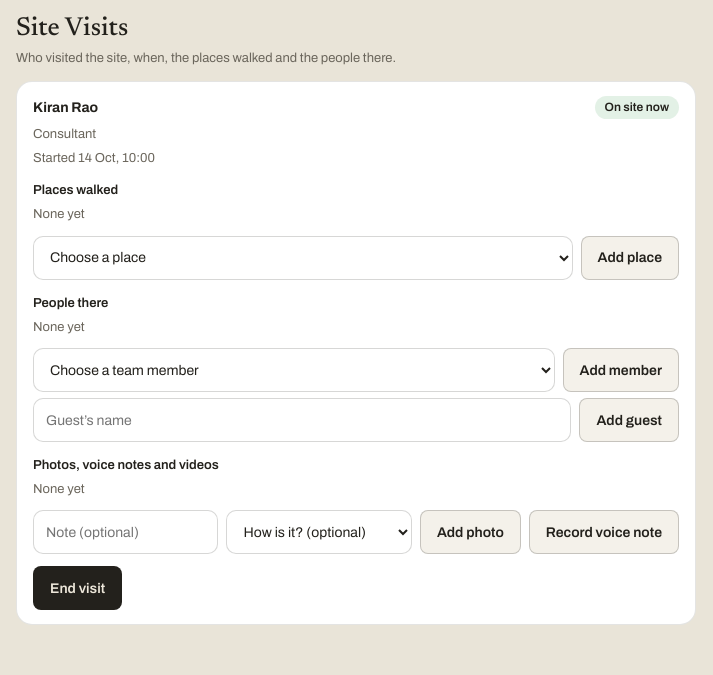
Test: Stage 1 voice notes on a visit › refuses a recording the browser ended past two minutes in a hidden tab, where the cap’s timer had not yet run
Click the button "Record voice note" at (604, 532), box [529, 510, 679, 554]
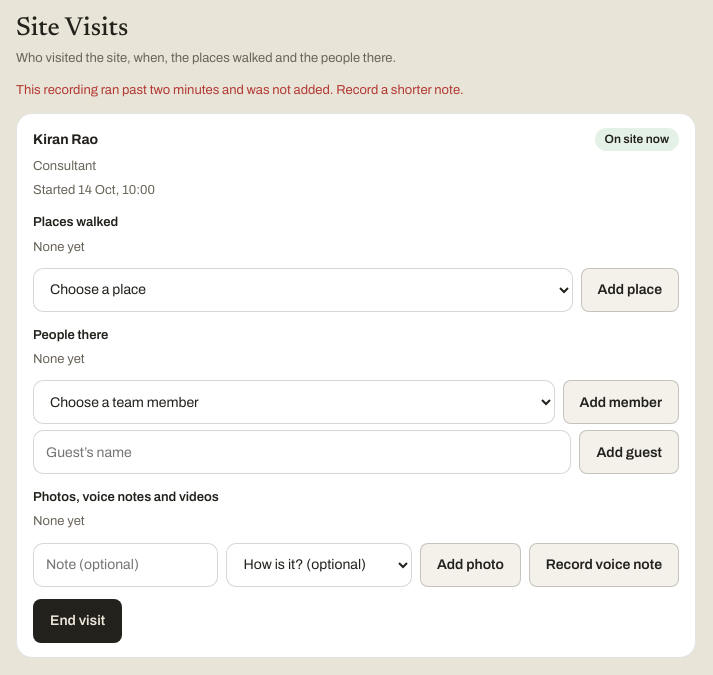
Now the message reads "This recording ran past two minutes and was not added. Record a shorter note.", box [16, 83, 464, 97]
